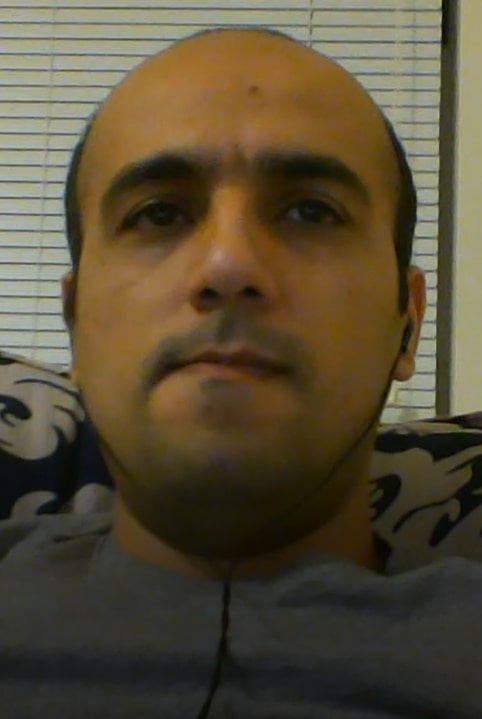Not Sleeping: (102, 157, 365, 258)
